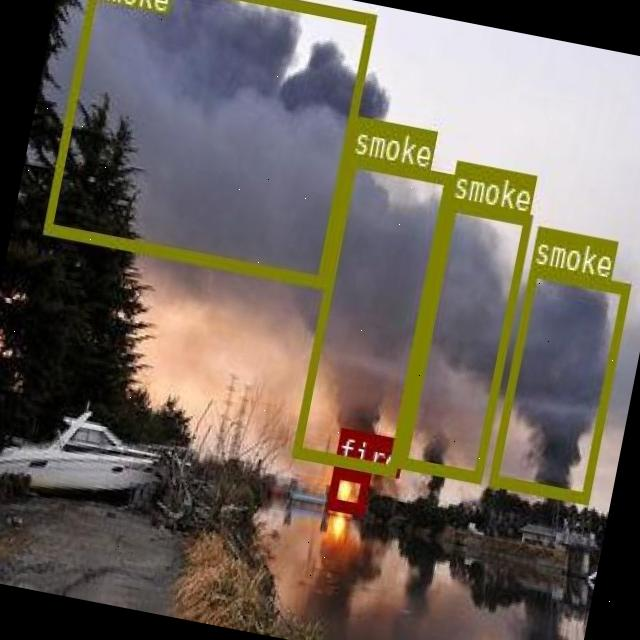fire: (326, 466, 370, 514)
smoke: (43, 0, 375, 284), (292, 154, 451, 474), (398, 198, 531, 480), (488, 265, 630, 503)
